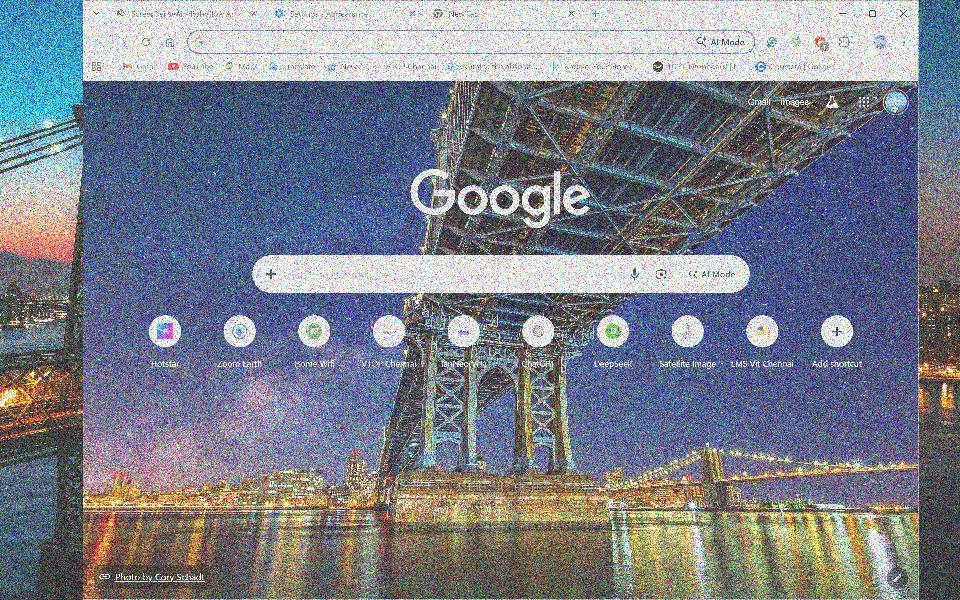close_button: (893, 5, 913, 23)
maximize_button: (861, 4, 885, 23)
minimize_button: (831, 4, 855, 24)
